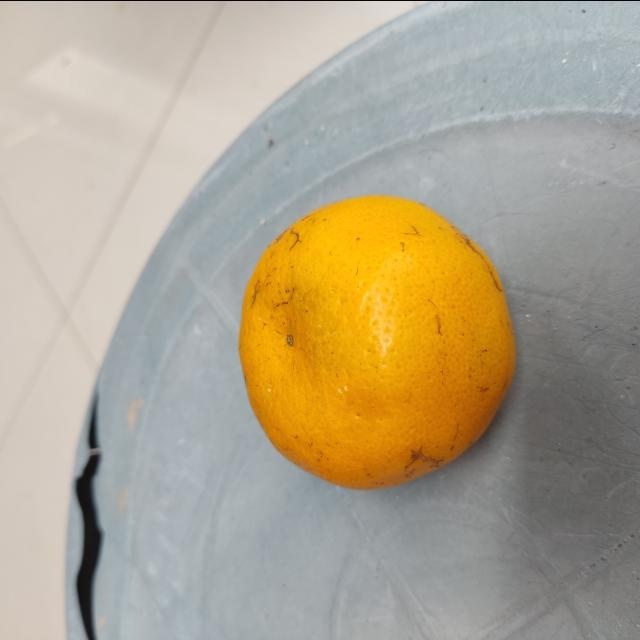agrume: (236, 195, 516, 489)
